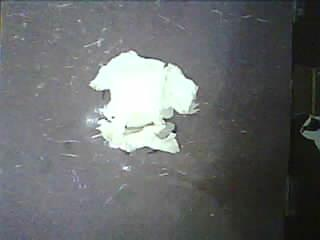paper: (91, 51, 198, 152)
